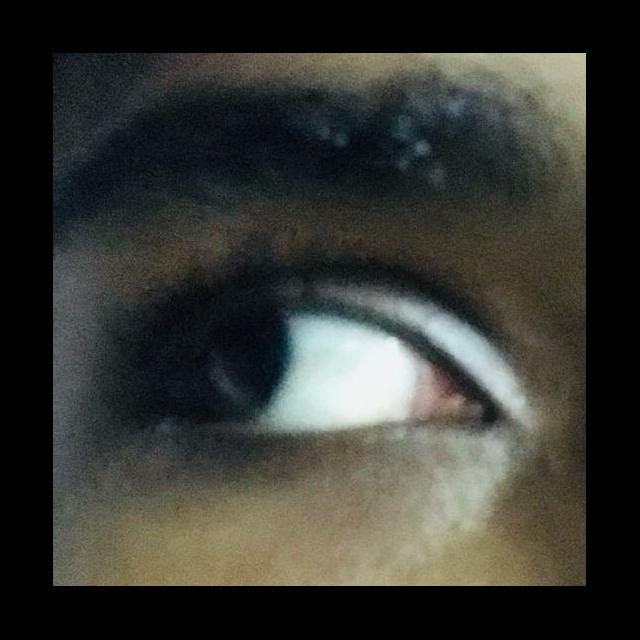eye: (194, 310, 430, 439)
iris: (213, 320, 300, 419)
